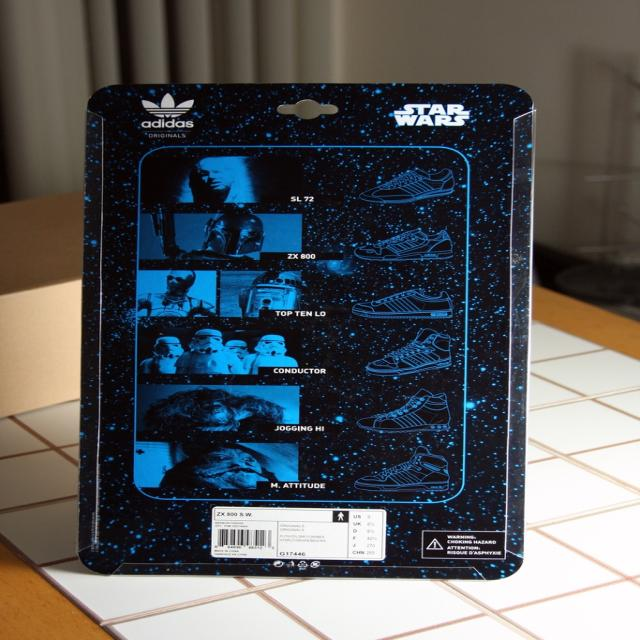adidas: (139, 92, 201, 132)
